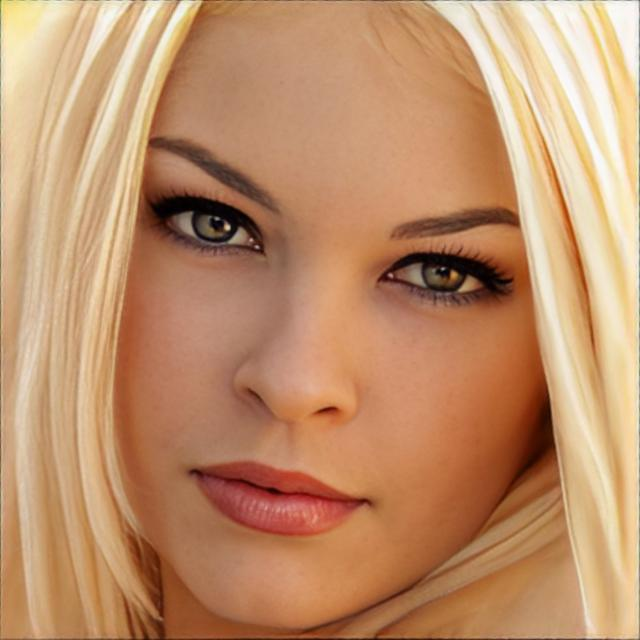content: (106, 0, 553, 636)
